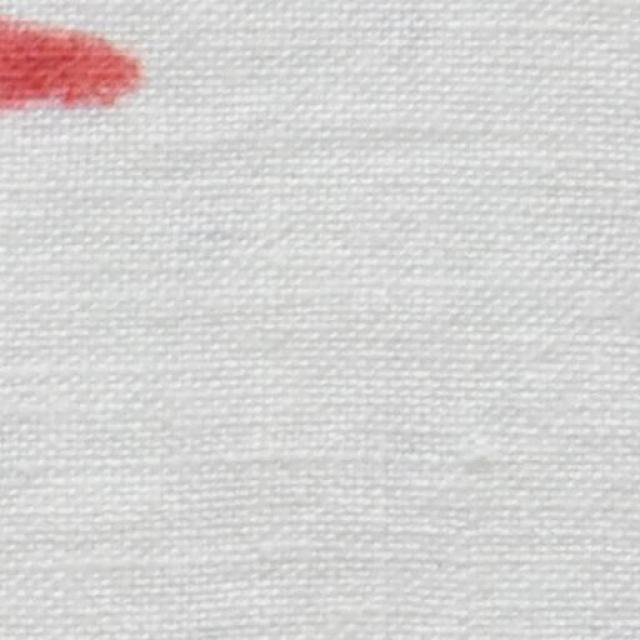Stain: (0, 21, 141, 111)
